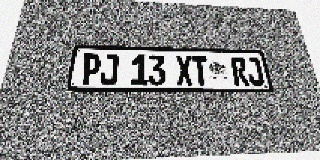1: (131, 54, 148, 85)
3: (148, 55, 165, 85)
J: (99, 54, 119, 85), (245, 57, 265, 86)
P: (80, 53, 101, 85)
R: (230, 57, 250, 86)
T: (191, 56, 210, 86)
X: (176, 56, 193, 85)
